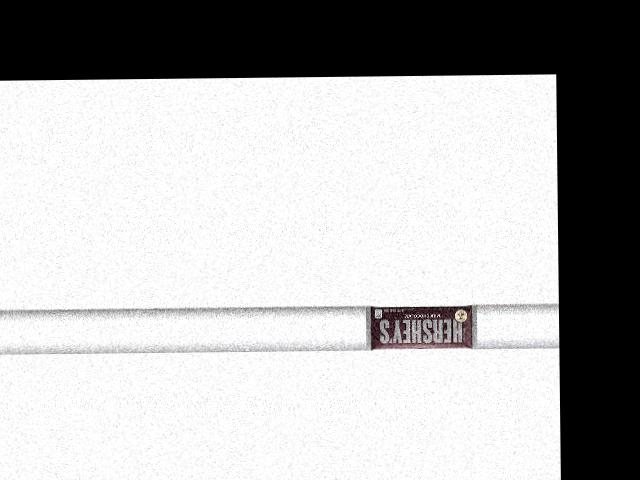chocolate: (365, 299, 475, 348)
